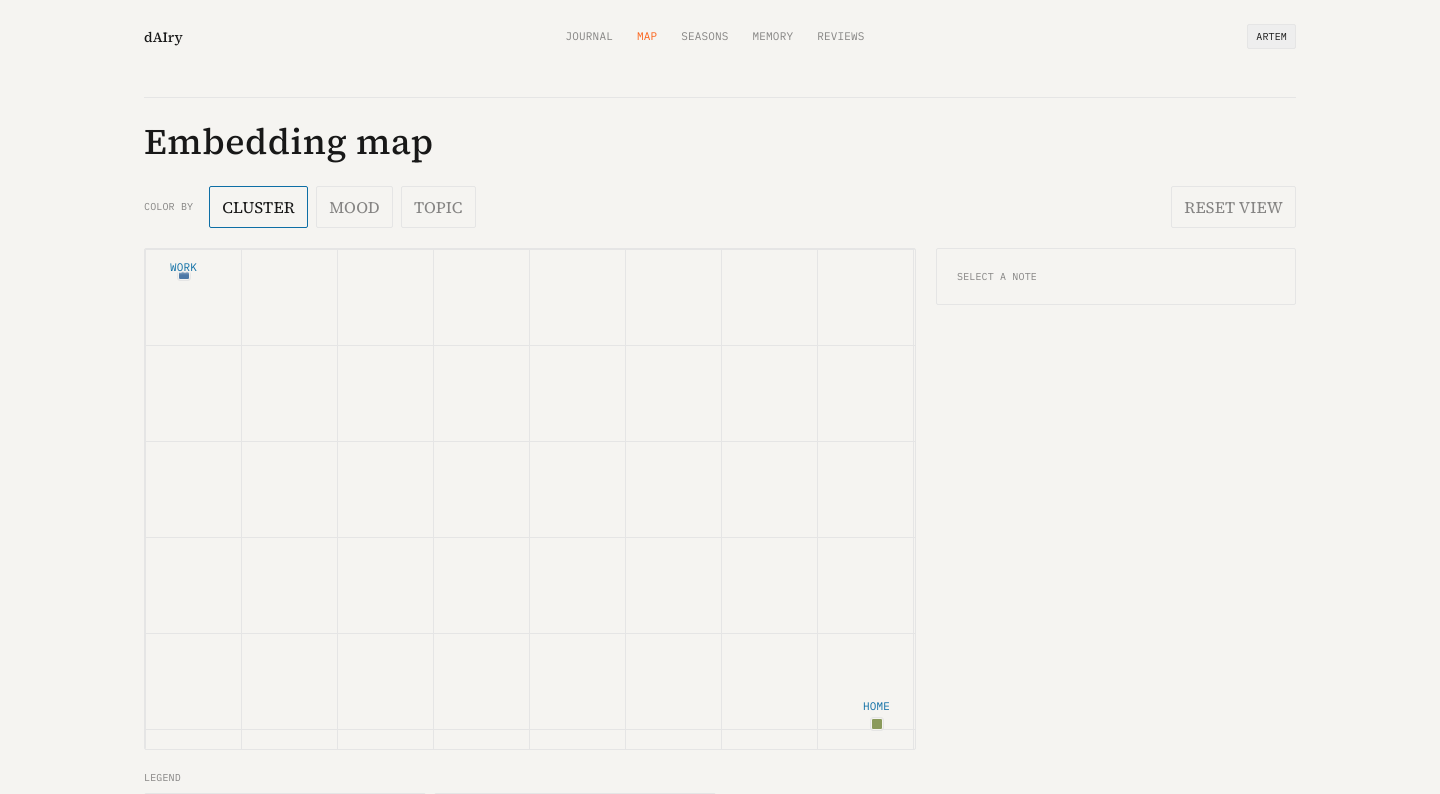
Test case: Phase 3 map view › successful NotePanel save reloads fresh text without leaving a stale saved status
Click the button named "NOTE 1": click(184, 274) x1=178 y1=268 x2=190 y2=280
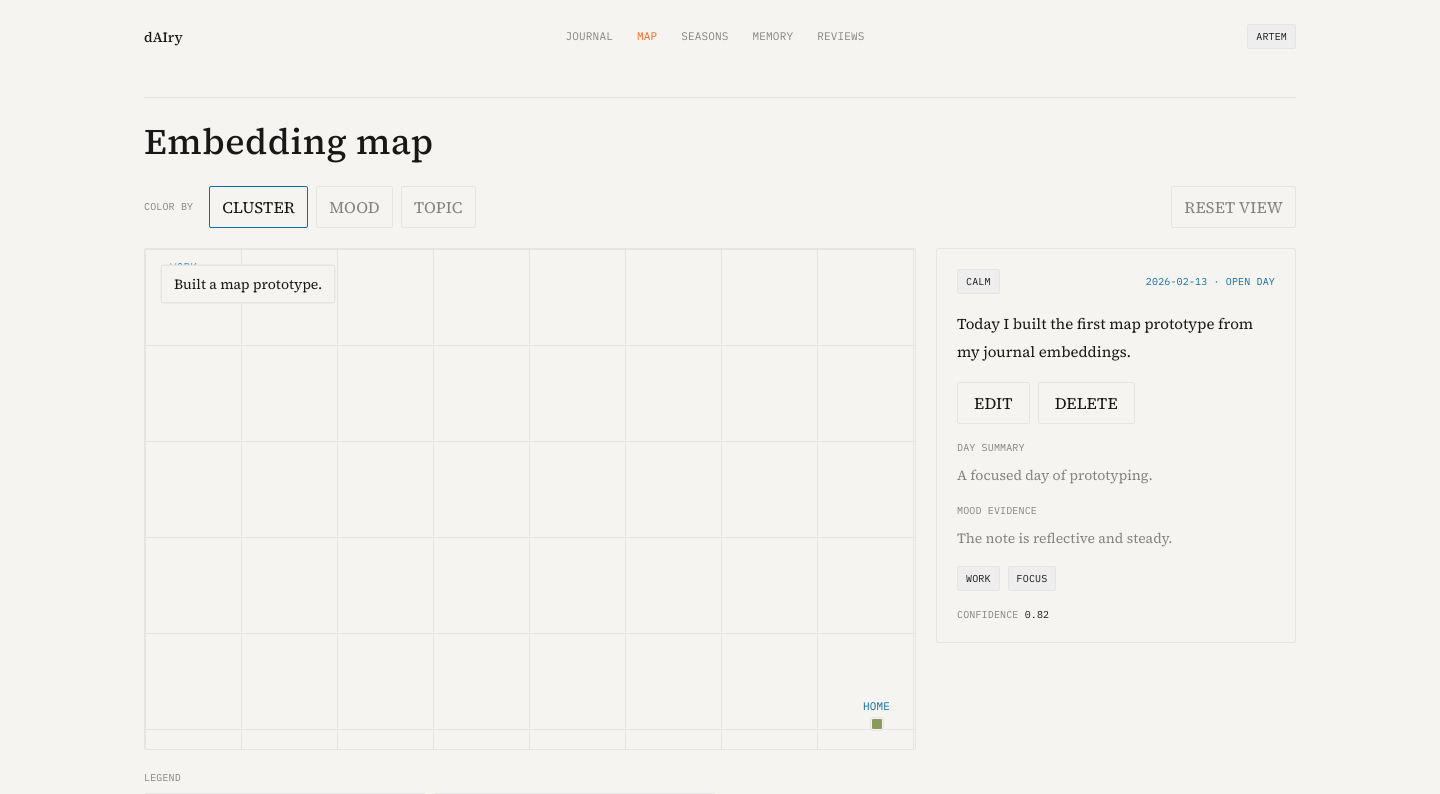
Click the button "EDIT": click(993, 403) x1=957 y1=382 x2=1030 y2=424
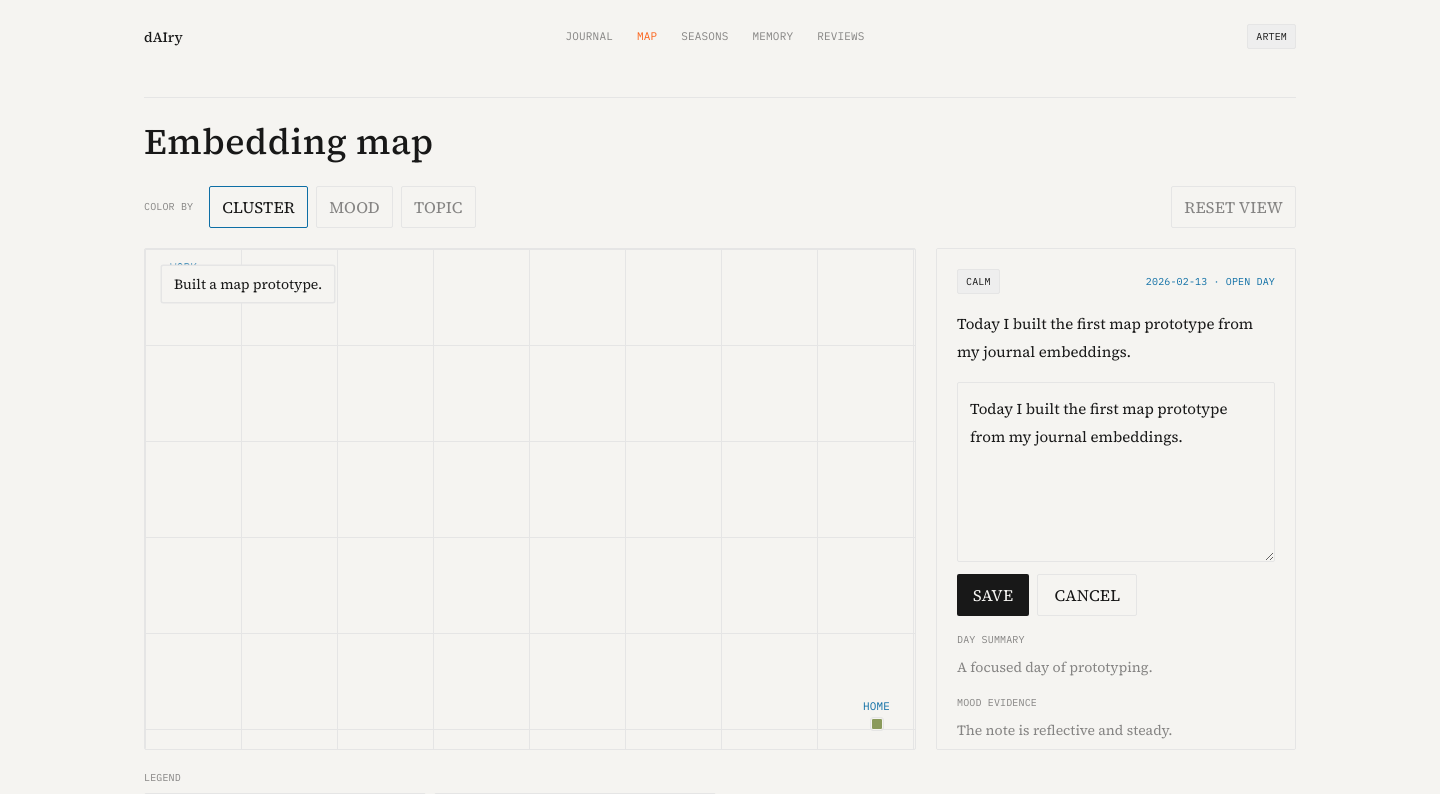
Replace the text in the text box with "Saved from the map note panel.": (1116, 472) x1=957 y1=382 x2=1275 y2=562
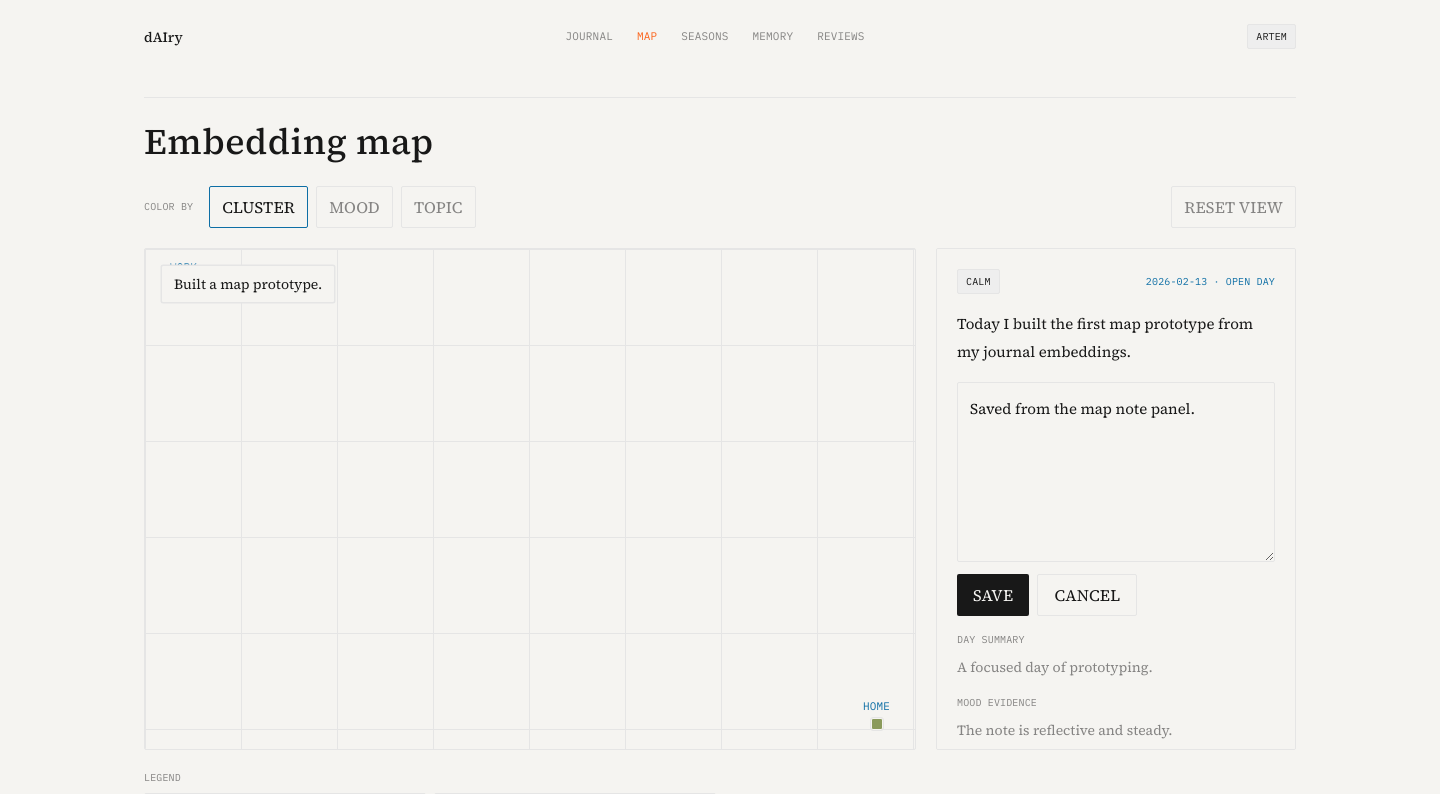
Click the button "SAVE": click(993, 595) x1=957 y1=574 x2=1029 y2=616
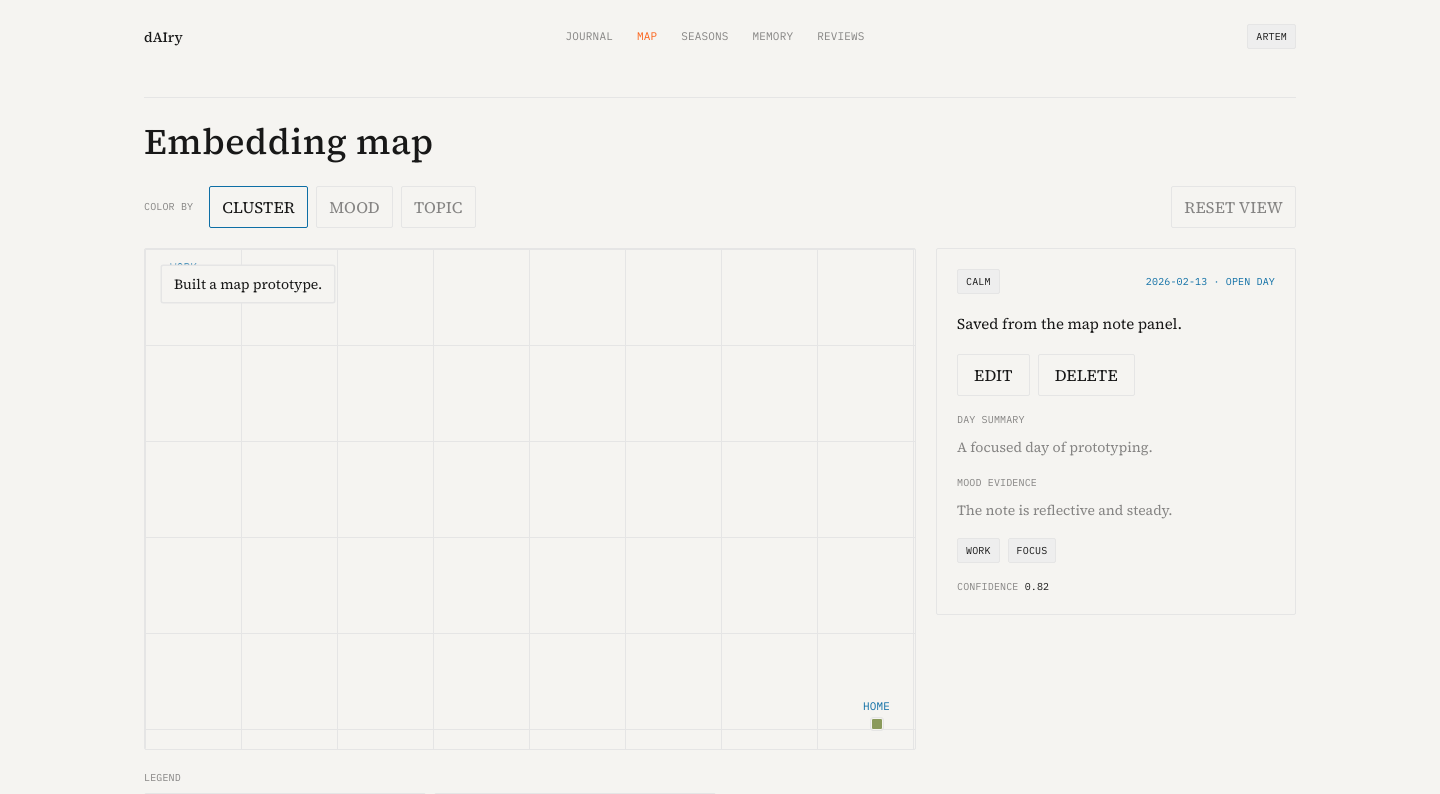
Expected: the text "Saved from the map note panel." is shown, x1=957 y1=313 x2=1182 y2=334
Expected: the button "EDIT" is shown, x1=957 y1=354 x2=1030 y2=396
